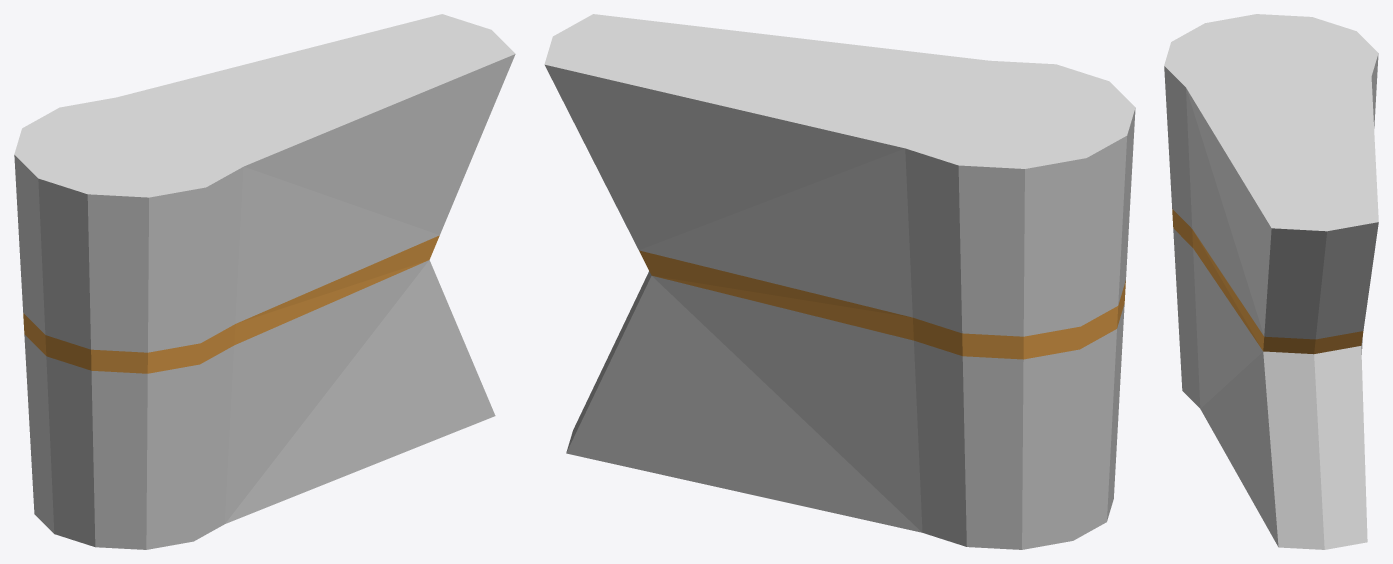
The model's file is GrandetoDenoklop.dae.
3 renders of one model, left to right at view 1: azimuth 30°, elevation 25°; view 2: azimuth 150°, elevation 25°; view 3: azimuth 270°, elevation 25°, orthographic. The views are drawn at different scales.
Visible parts, largest first — view 1: turmoA.003; view 2: turmoA.003; view 3: turmoA.003.
Boxes of the visible parts, <box> form: turmoA.003: <box>14,14,515,549</box>; turmoA.003: <box>544,14,1135,549</box>; turmoA.003: <box>1164,14,1378,549</box>.
Bounding box in the file's own units: 12.88 × 5.38 × 9.02.
